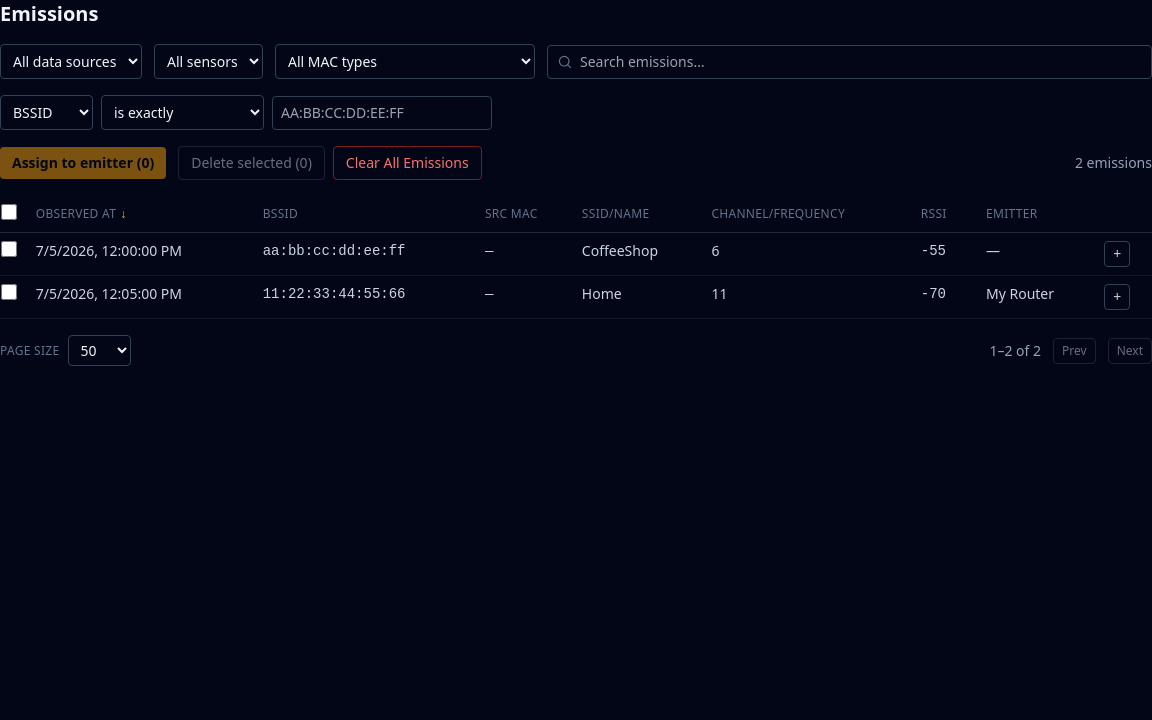
Test: selecting an emission and bulk-assigning prefills RuleBuilder with bssid eq <value> and POSTs match_criteria
Expected: the row with test id "emission-row-e1" is shown, [0, 232, 1151, 276]
Click the checkbox named "Select emission e1" at (9, 249), box [1, 241, 17, 257]
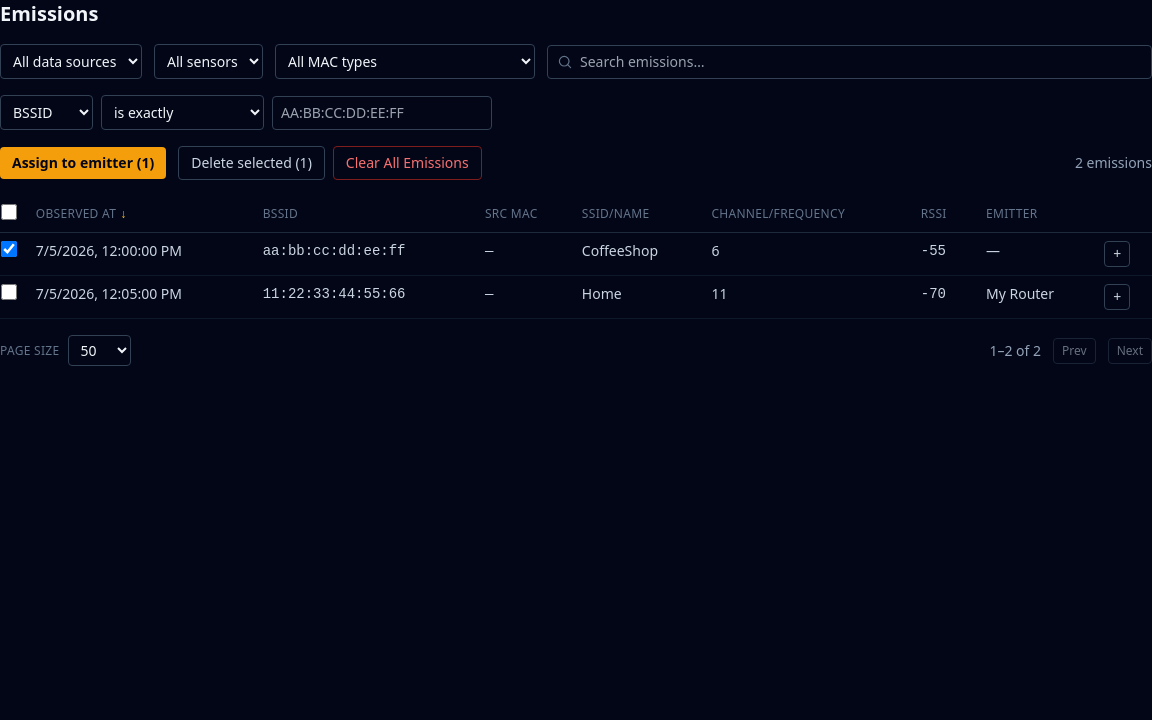
Click the button "Assign to emitter (1)" at (83, 163), box [0, 147, 166, 179]
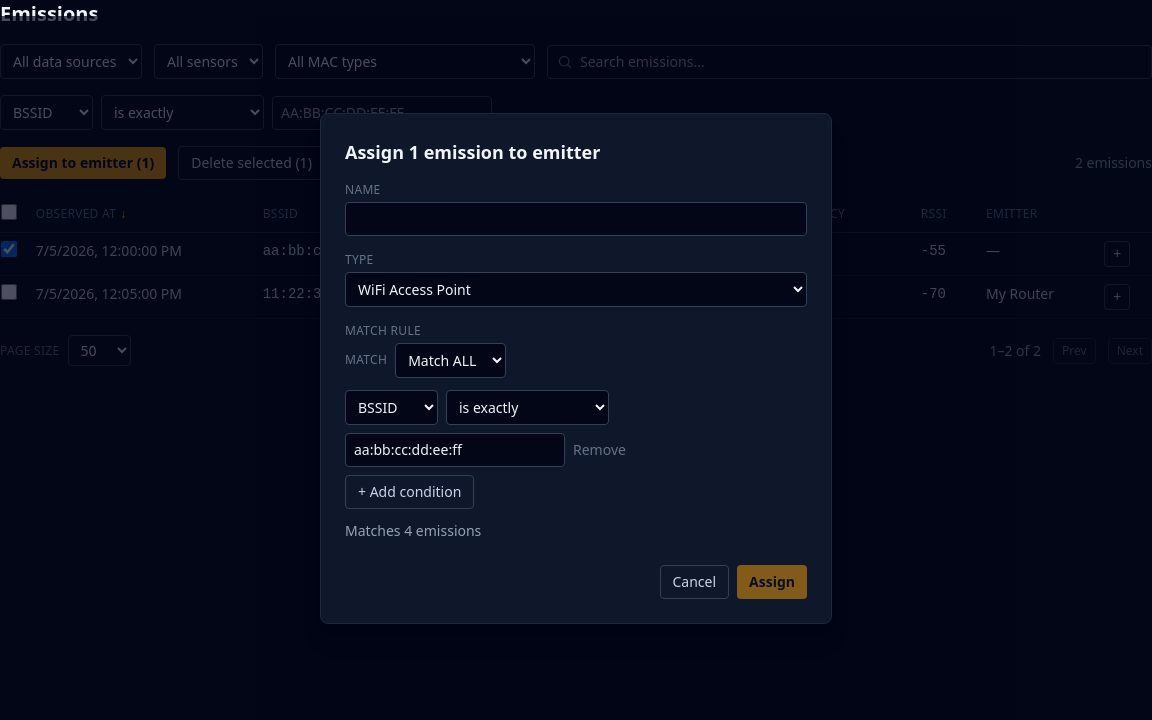
Expected: the 1st dropdown named "field" shows "BSSID", [345, 390, 438, 424]
Expected: the 2nd dropdown named "operator" shows "is exactly", [446, 390, 609, 424]
Expected: the field named "value" holds "aa:bb:cc:dd:ee:ff", [345, 432, 565, 466]
Type "Coffee Shop AP" into the field labelled "Name" at (576, 218), box [345, 202, 807, 236]
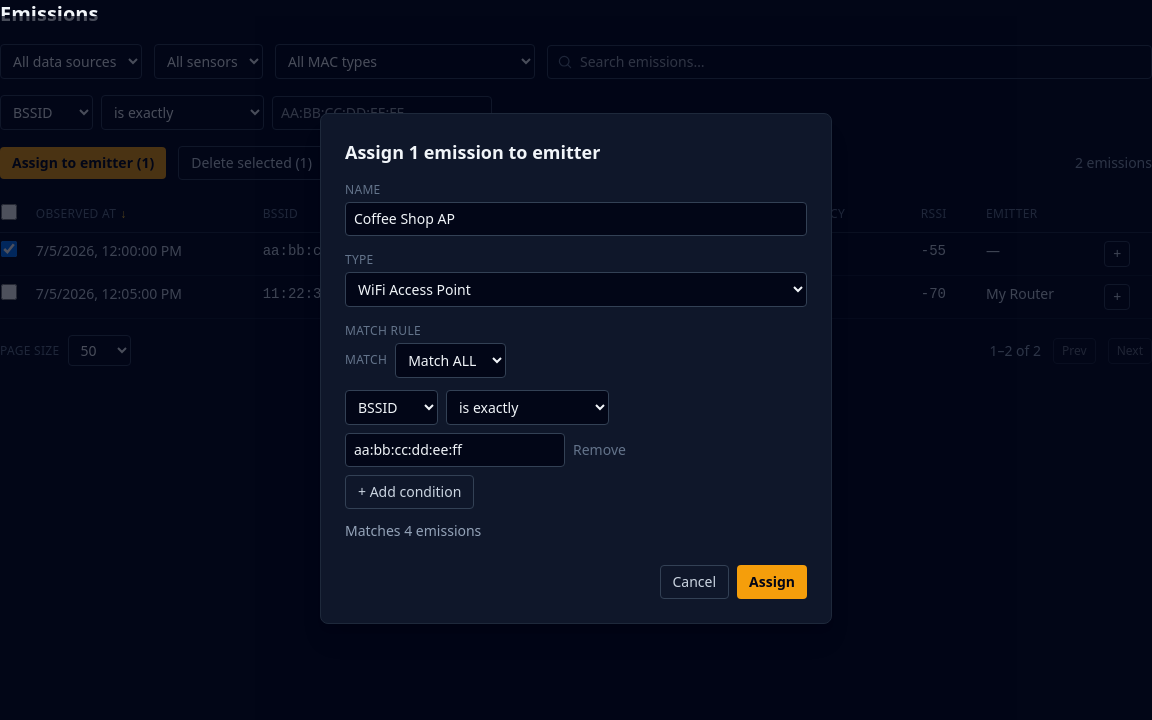
Click the button "Assign" at (772, 582), box [737, 564, 807, 598]
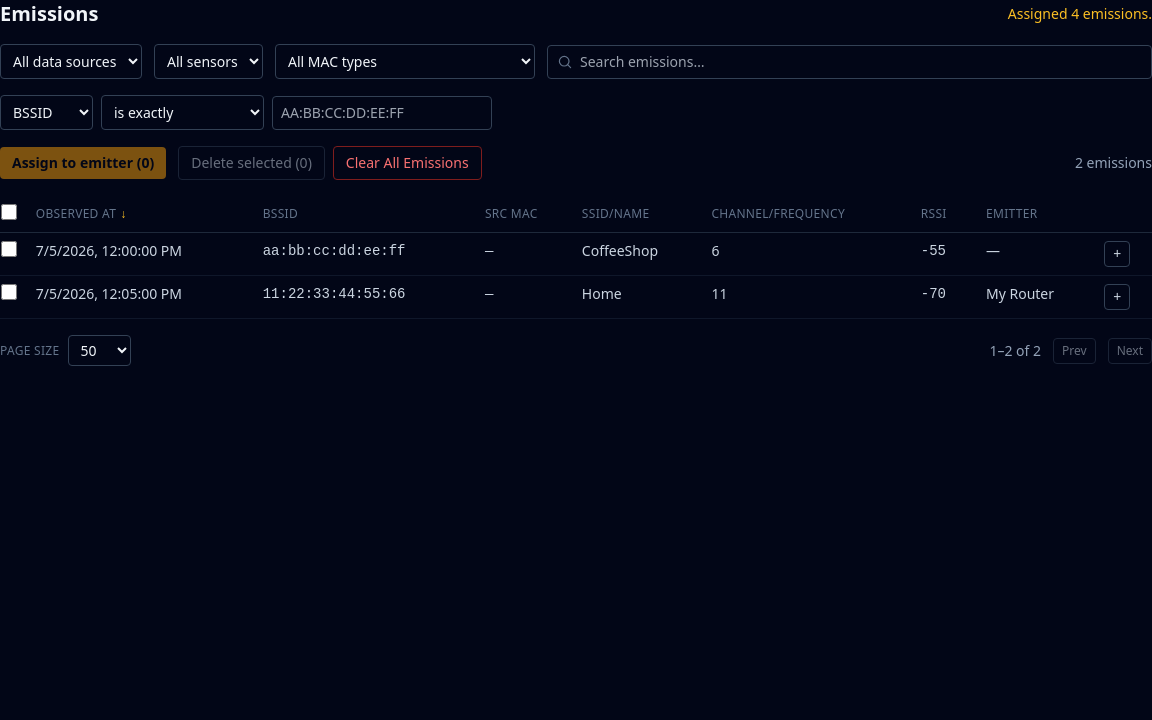
Expected: the message shows "Assigned 4 emission", [1008, 4, 1151, 23]
